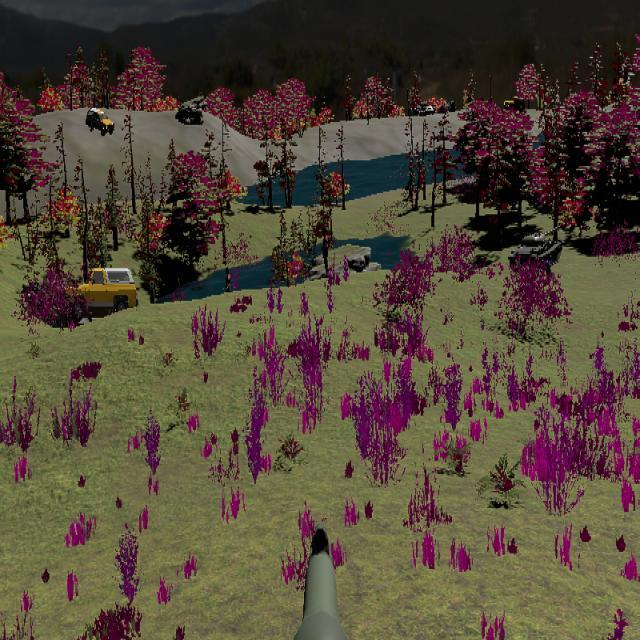Tank: (508, 228, 562, 270)
car: (63, 266, 138, 321), (86, 109, 114, 136)
